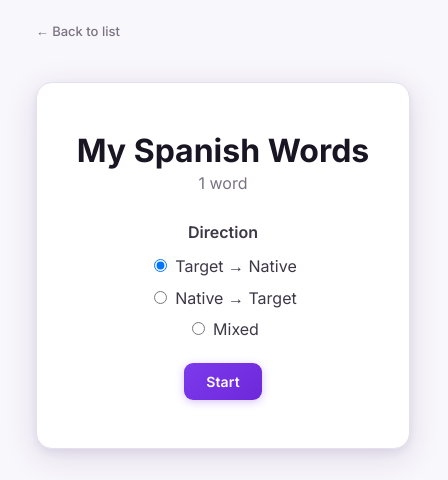
Test: PracticePage › clicking Start shows first card
Click the button "Start" at (223, 381), box [184,363,262,400]
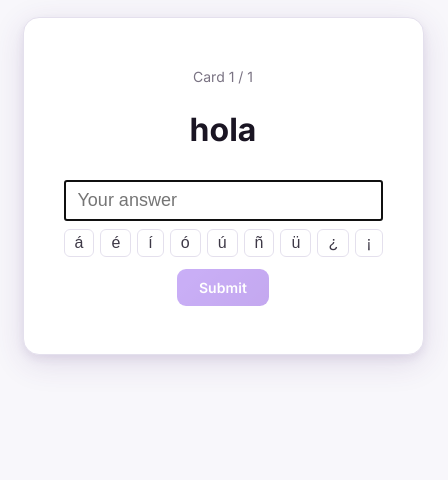
Now the text "Card 1 / 1" is shown, box [193,68,253,85]
Now the field with placeholder "Your answer" is shown, box [64,180,382,221]
